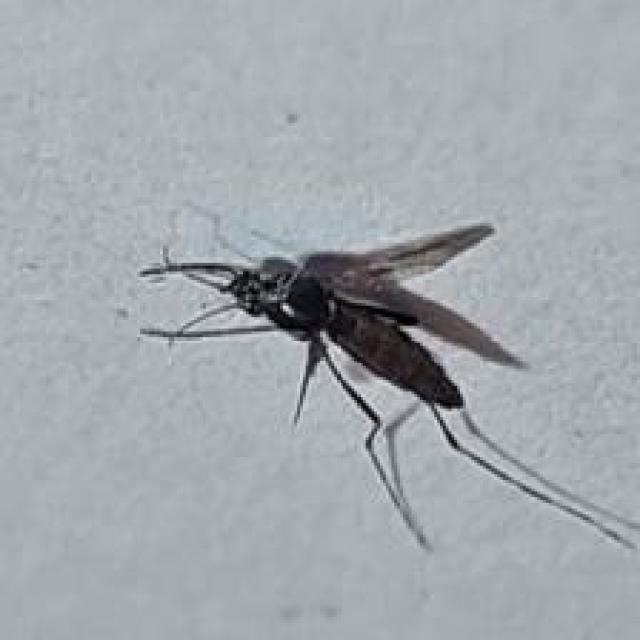Aedes albopictus: (134, 202, 640, 558)
